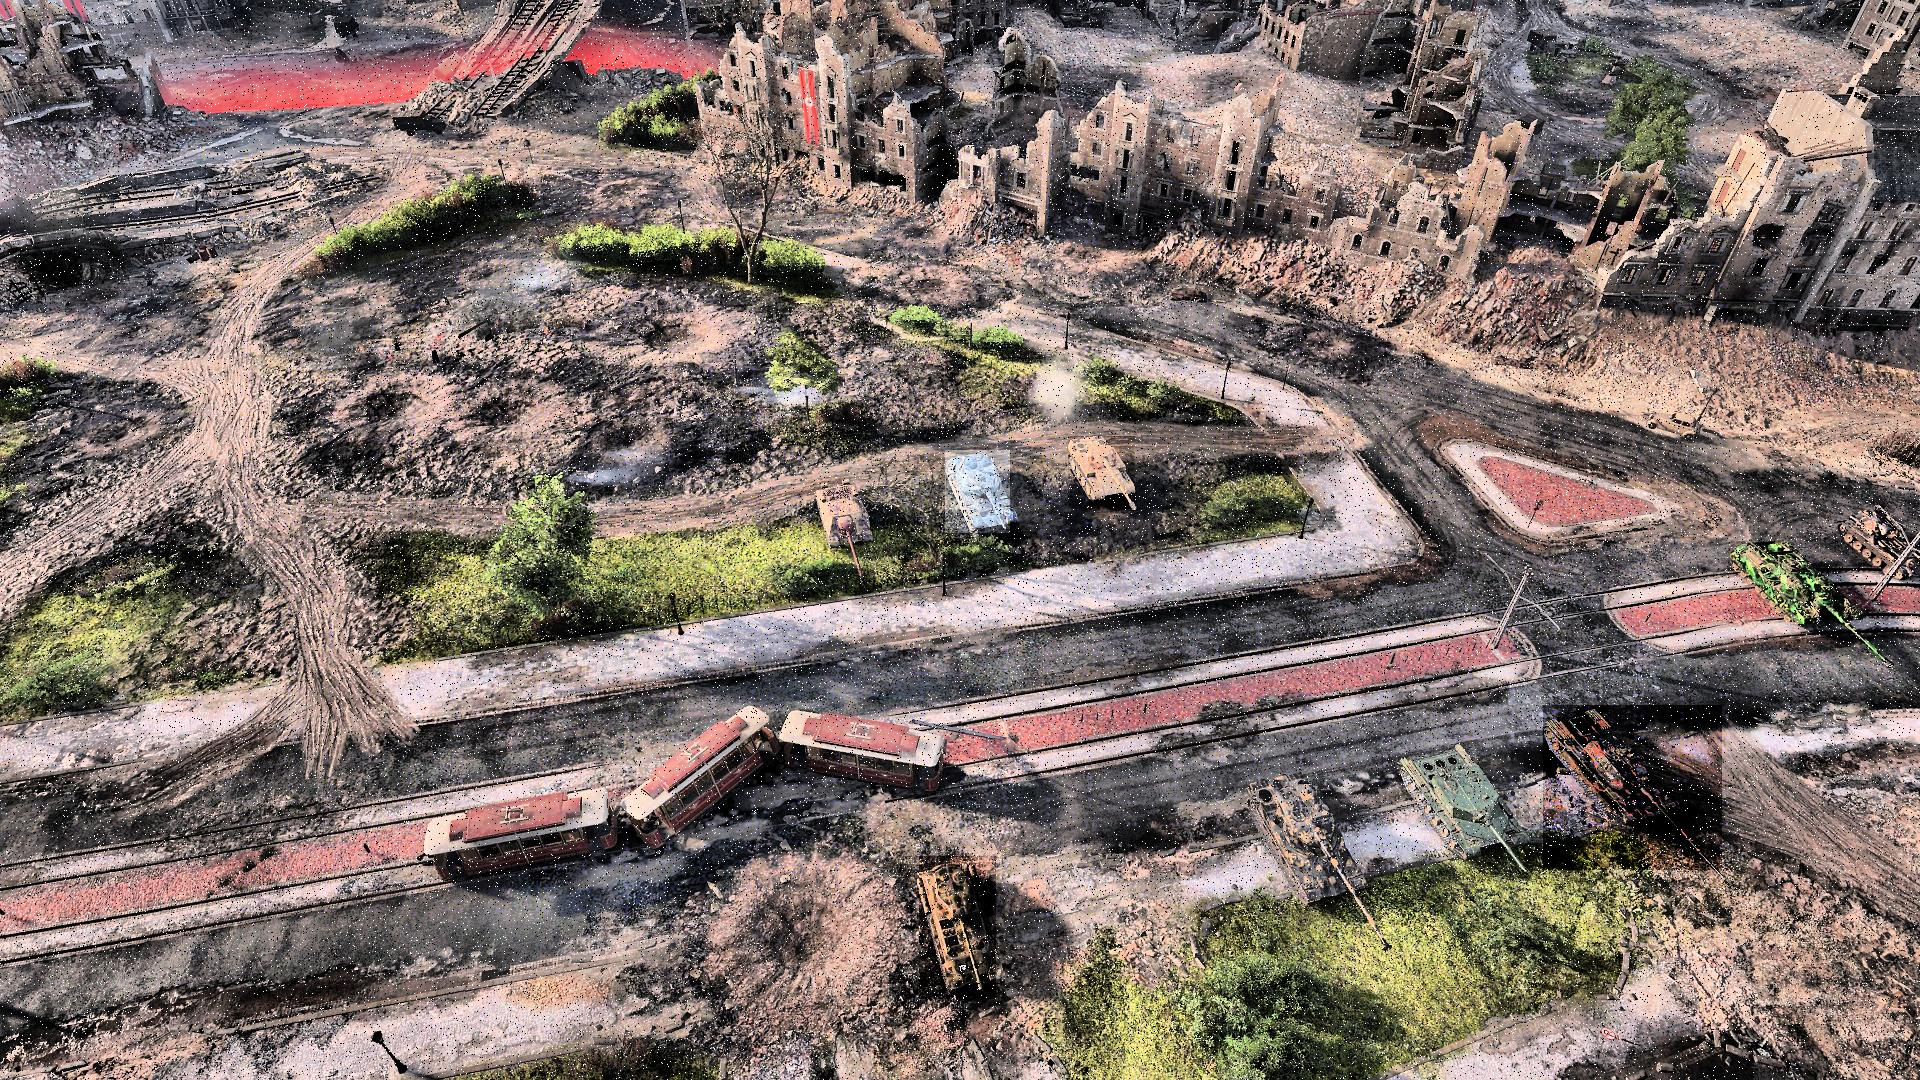military-vehicle: (1543, 705, 1722, 870), (1729, 533, 1888, 665), (1245, 773, 1375, 928), (1396, 740, 1524, 872), (920, 857, 997, 1000), (815, 480, 872, 582), (945, 450, 1010, 533), (1068, 436, 1135, 510)
